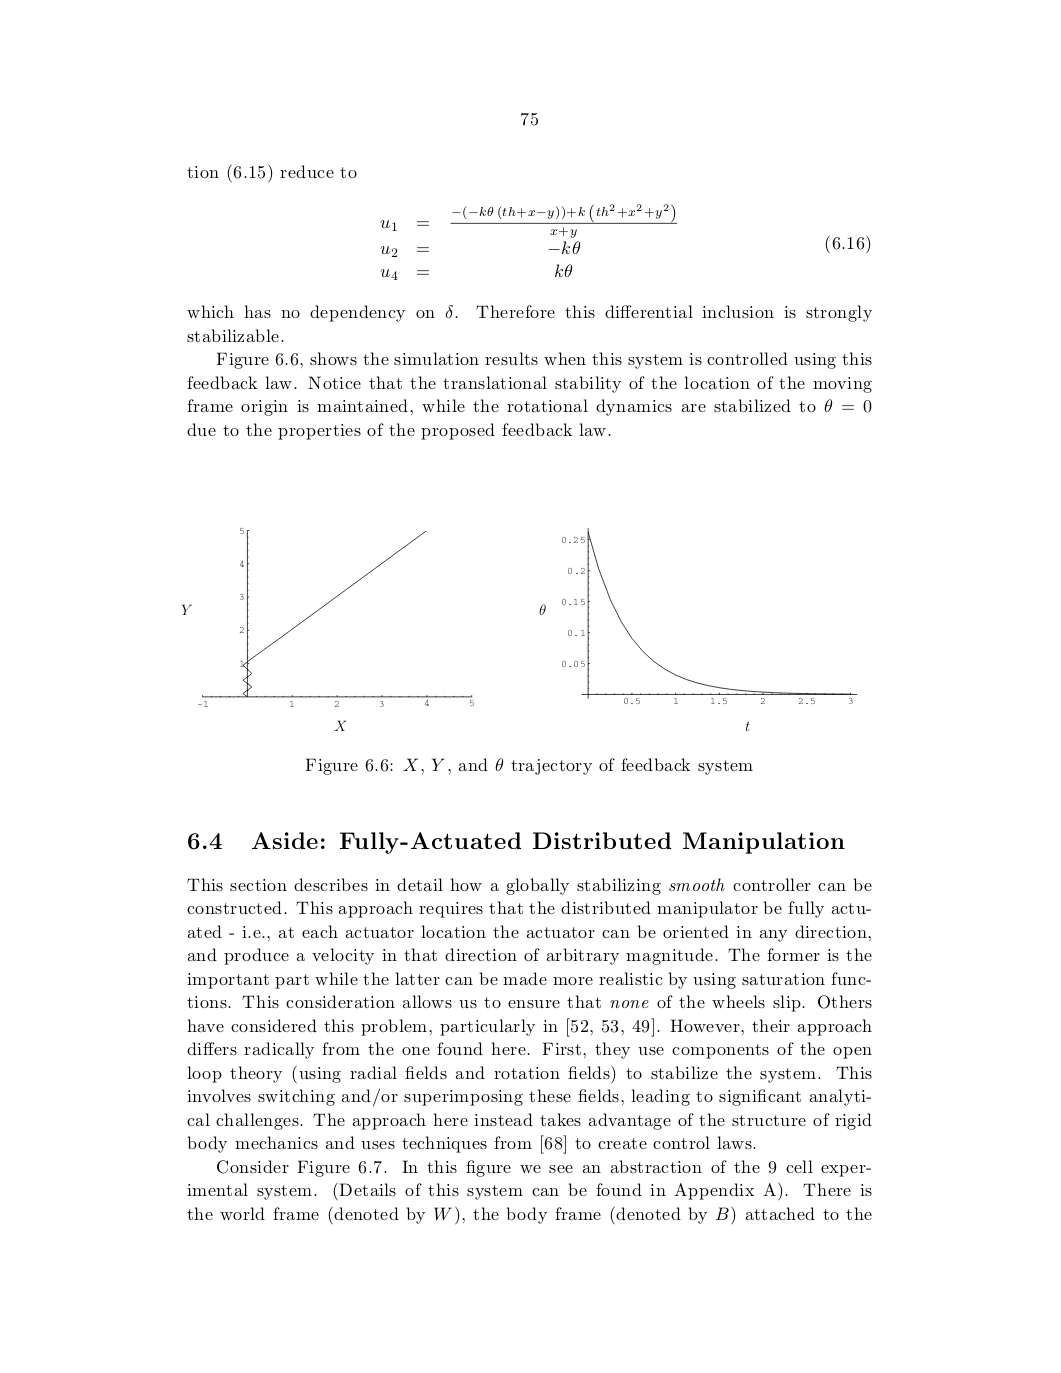figure: (539, 528, 857, 731), (181, 527, 473, 730)
formula: (380, 204, 676, 237), (380, 241, 580, 256), (380, 264, 572, 279)
